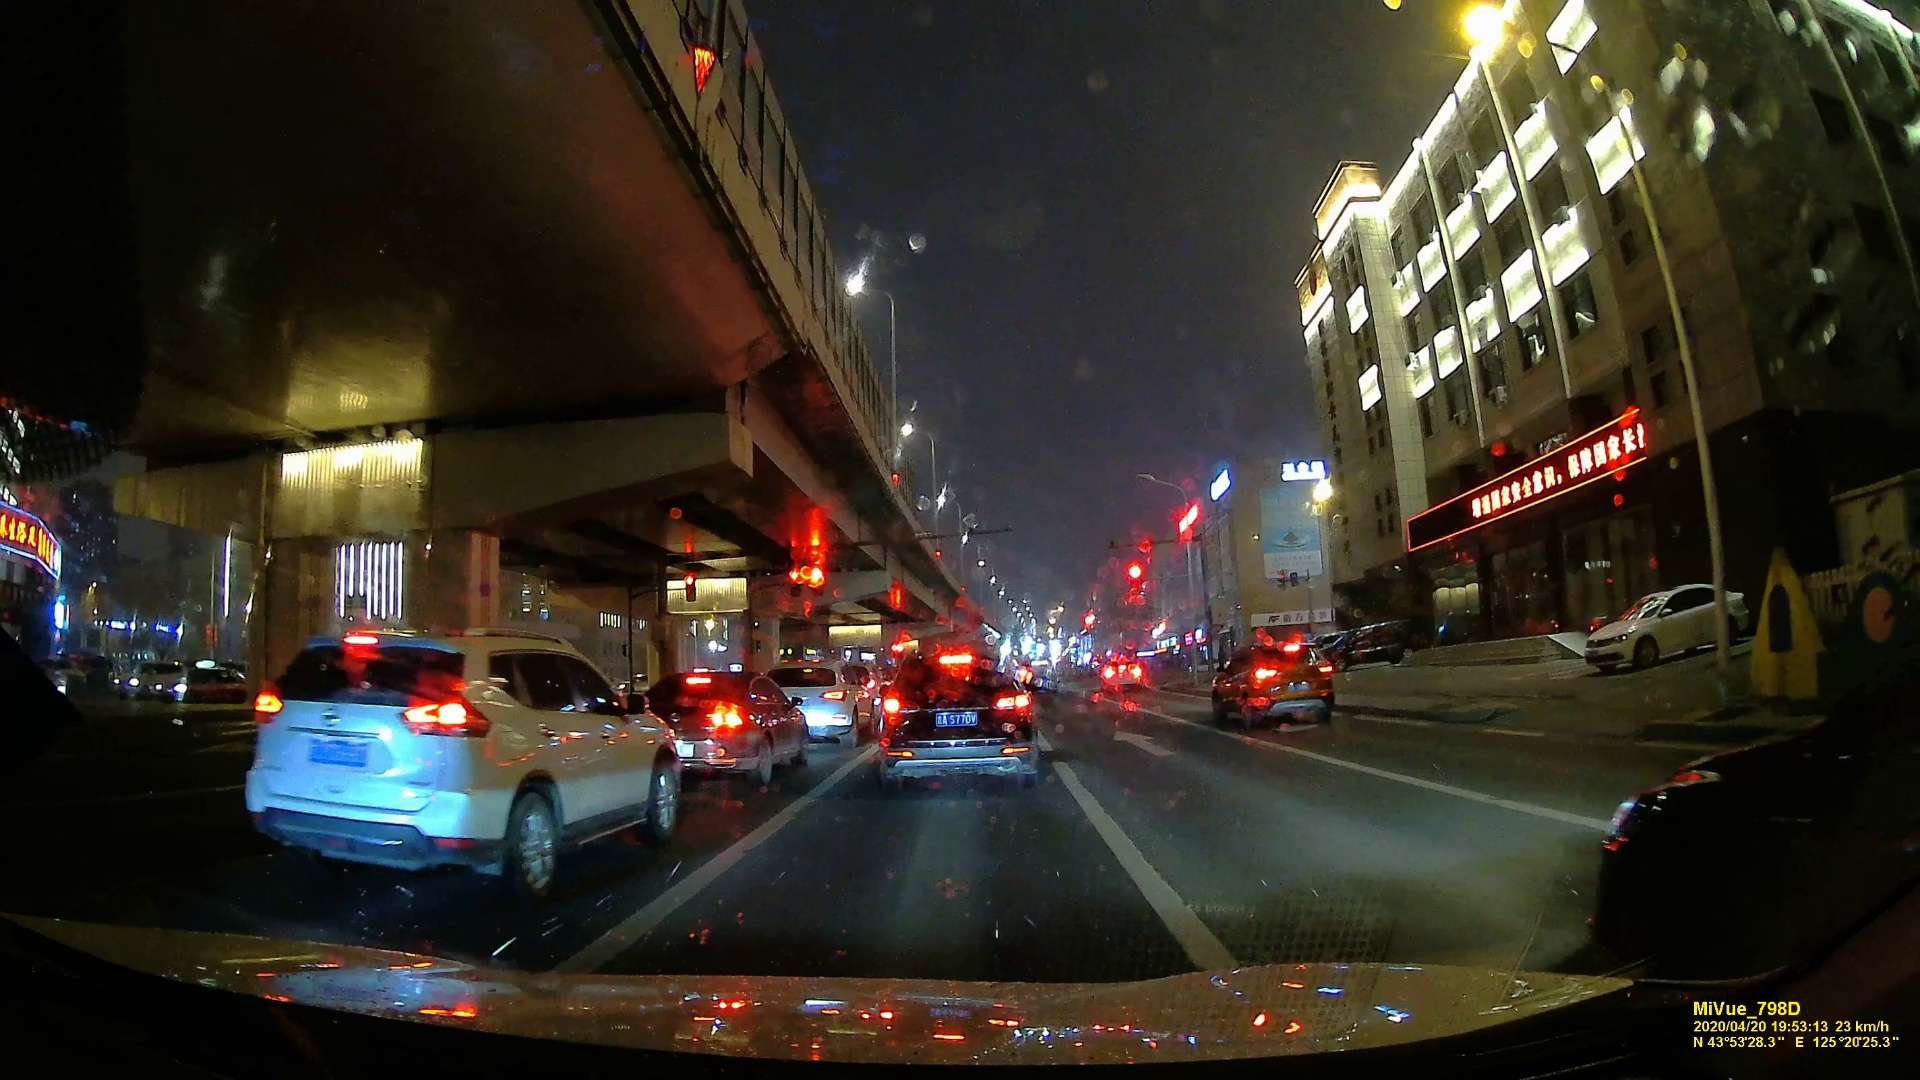traffic_sign: (680, 574, 699, 603), (1127, 563, 1143, 589)
vehicle: (255, 622, 676, 890), (874, 647, 1036, 796), (649, 673, 804, 789), (1589, 583, 1758, 673), (1209, 640, 1337, 727), (769, 658, 870, 742), (153, 662, 248, 705), (1102, 655, 1147, 688), (807, 566, 824, 595)
